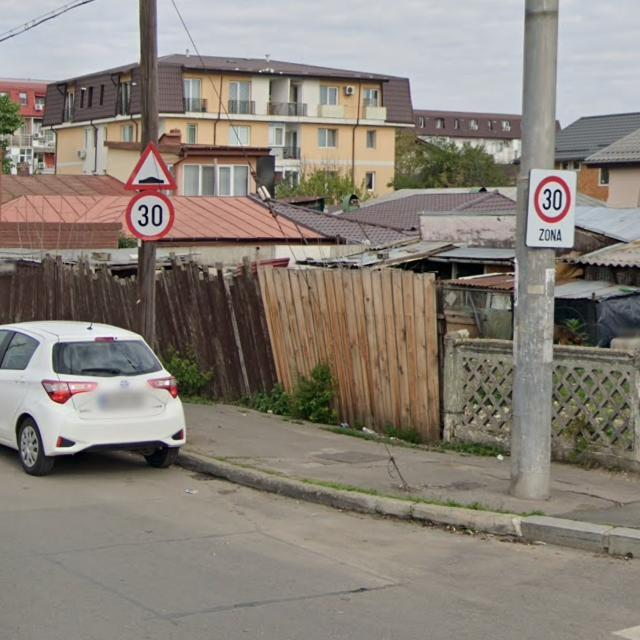forb_speed_over_30: (126, 193, 173, 238), (534, 175, 575, 223)
